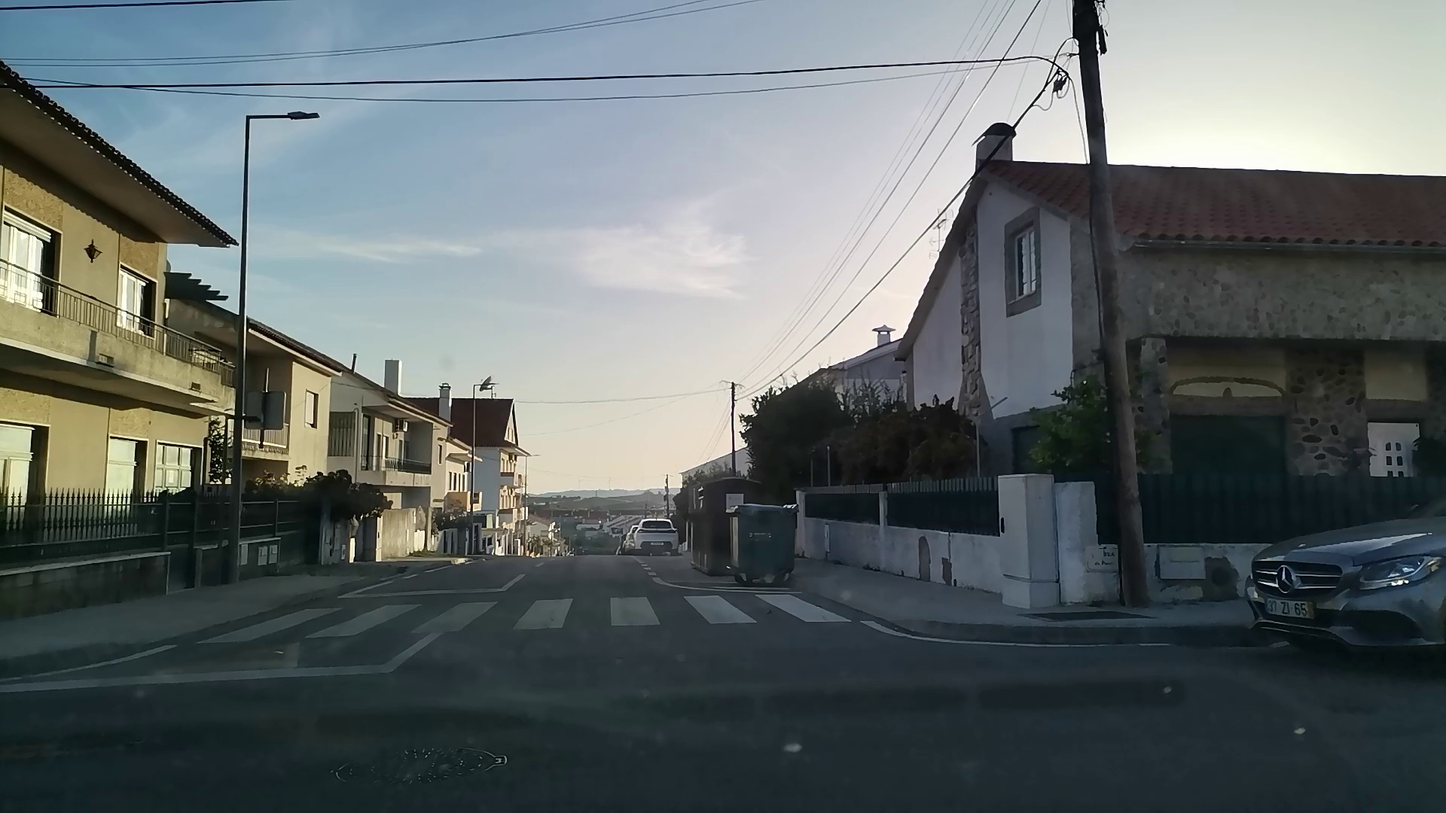Stairs: (162, 593, 855, 656)
